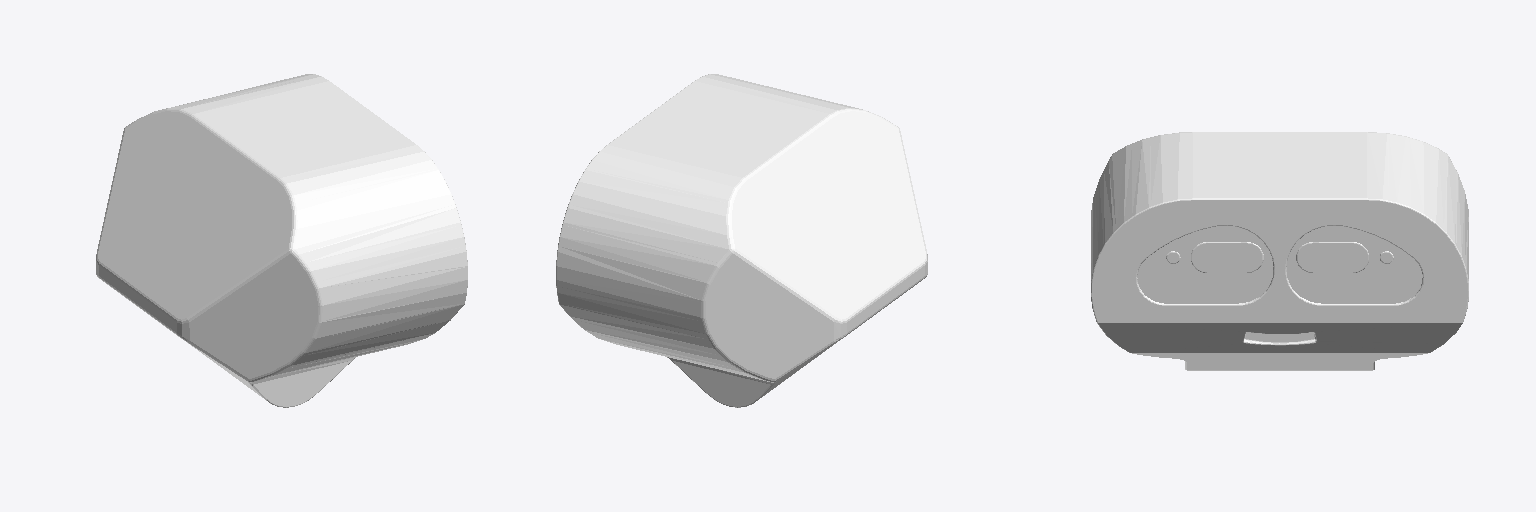
File: head_2.obj
3 views of the same model, side by side, from view 1: azimuth 30°, elevation 25°; view 2: azimuth 150°, elevation 25°; view 3: azimuth 270°, elevation 25° (orthographic).
Visible parts, largest first — view 1: head_2; view 2: head_2; view 3: head_2.
Boxes of the visible parts, box(x1,y1,x2,y2) form: head_2: box(96, 74, 467, 407); head_2: box(556, 74, 927, 407); head_2: box(1091, 132, 1468, 370).
Bounding box in the file's own units: 0.187 × 0.1734 × 0.2598.